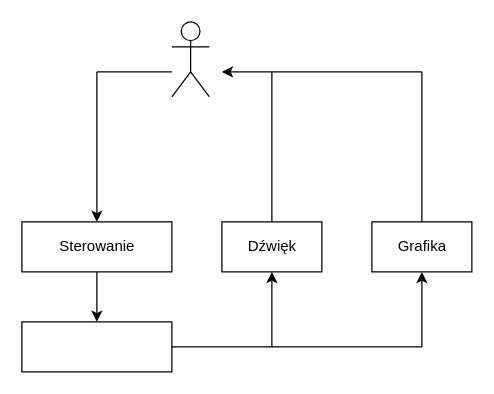
Some shapes in this 494 by 394 pixel diagram are drawn without their labels. Each missing label, with the centre of its shape:
"Gracz" goes at (x=190, y=59).
"Logika gry" goes at (x=96, y=346).
